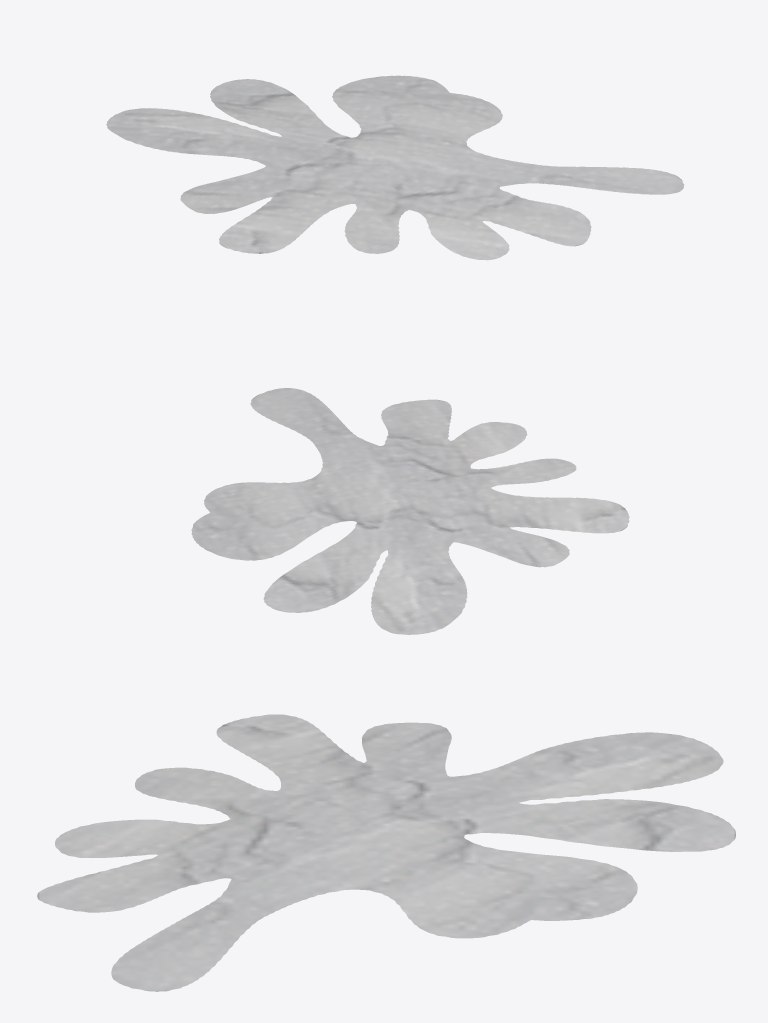
File: splat.glb
3 renders of one model, top to bottom at view 1: azimuth 30°, elevation 25°; view 2: azimuth 150°, elevation 25°; view 3: azimuth 270°, elevation 25°, orthographic. The views are drawn at different scales.
Parts seen in each view (by area): view 1: splat; view 2: splat; view 3: splat.
Part boxes in pixels (x1,y1,x2,y2): splat: (106, 75, 684, 260); splat: (191, 388, 629, 634); splat: (37, 714, 735, 991).
Size of the model in its own units: 1 by 0.0302 by 1.
1 material, 1 textured.
